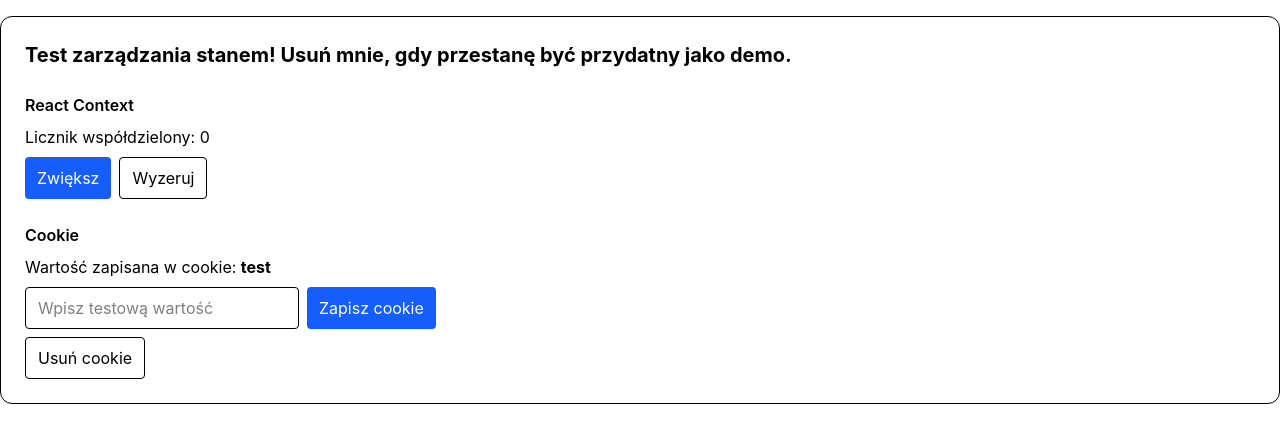
Test: StateDemo — cookies › usuwa zapisaną wartość cookie
Click the button "Usuń cookie". click: (85,358)
box: x1=25 y1=337 x2=145 y2=379
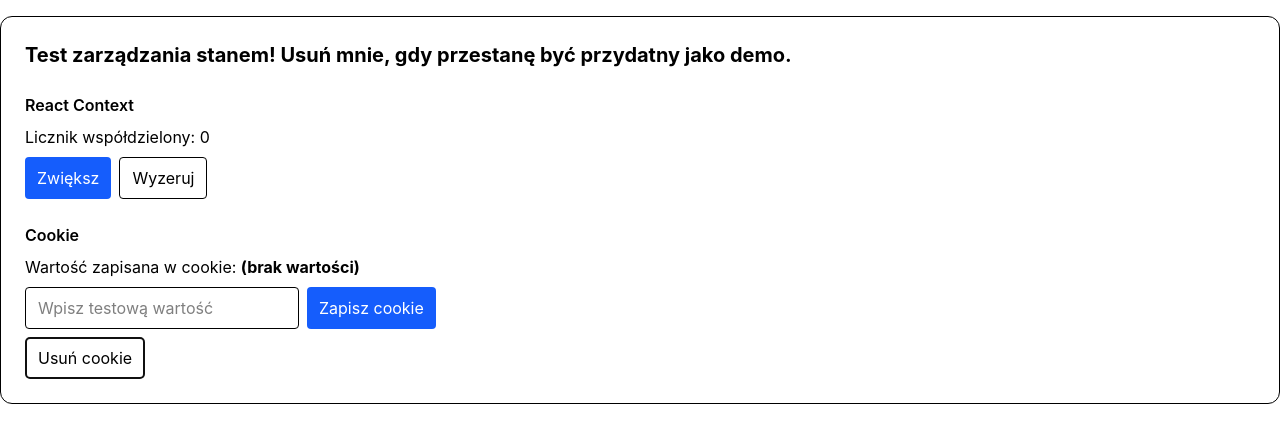
Check: the text "(brak wartości)" is shown, box x1=241 y1=257 x2=360 y2=277
